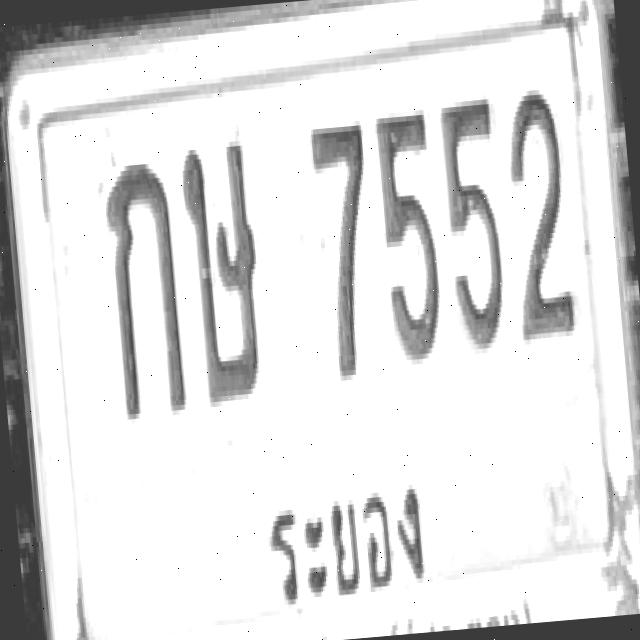10GorGai: (101, 156, 187, 420)
2: (502, 85, 576, 337)
48SorRueSi: (177, 132, 270, 405)
5: (436, 93, 511, 350), (372, 106, 446, 364)
7: (307, 117, 383, 379)
Rayong: (256, 476, 438, 621)
